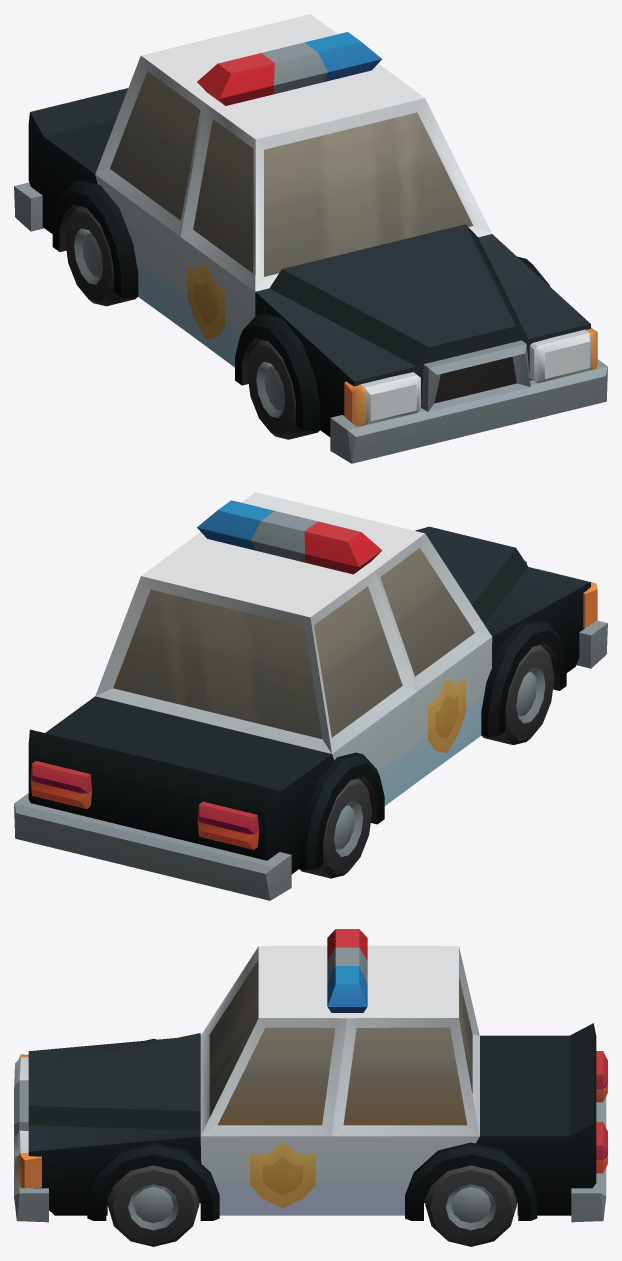
File: kay-viatura.gltf
3 renders of one model, top to bottom at view 1: azimuth 30°, elevation 25°; view 2: azimuth 150°, elevation 25°; view 3: azimuth 270°, elevation 25°, orthographic. The views are drawn at different scales.
Visible parts, largest first — view 1: car_police; view 2: car_police; view 3: car_police.
Part boxes in pixels (x1,y1,x2,y2): car_police: (14, 14, 607, 463); car_police: (14, 492, 607, 900); car_police: (14, 929, 607, 1246).
Size of the model in its own units: 2.09 by 2.06 by 4.69.
1 material, 1 textured.
